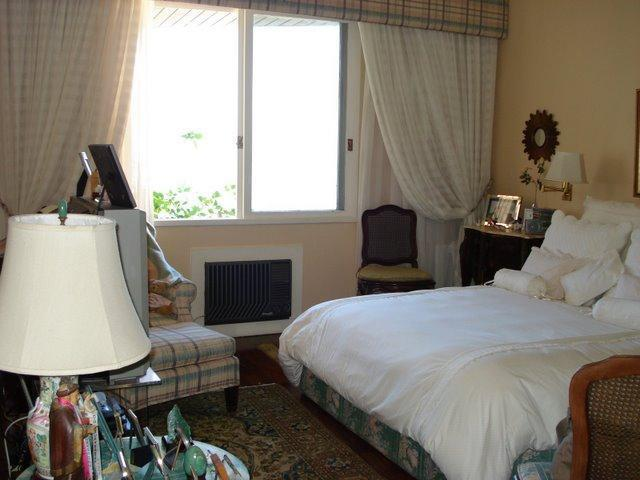Cama: (287, 201, 634, 437)
Ventana: (147, 4, 353, 215)
